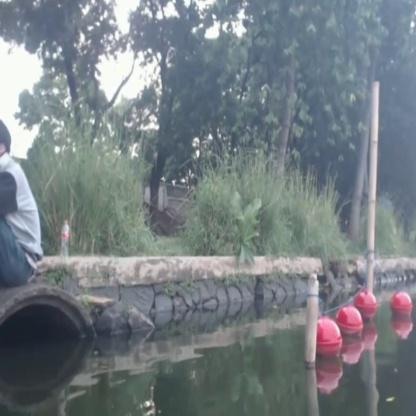red_buoy: (316, 318, 339, 364), (338, 305, 362, 339), (389, 290, 412, 322), (360, 287, 374, 325)
